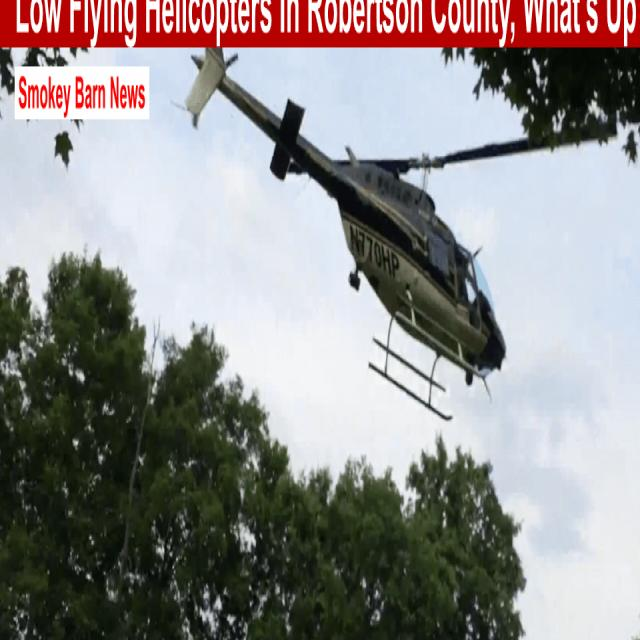helicopter: (189, 44, 623, 427)
